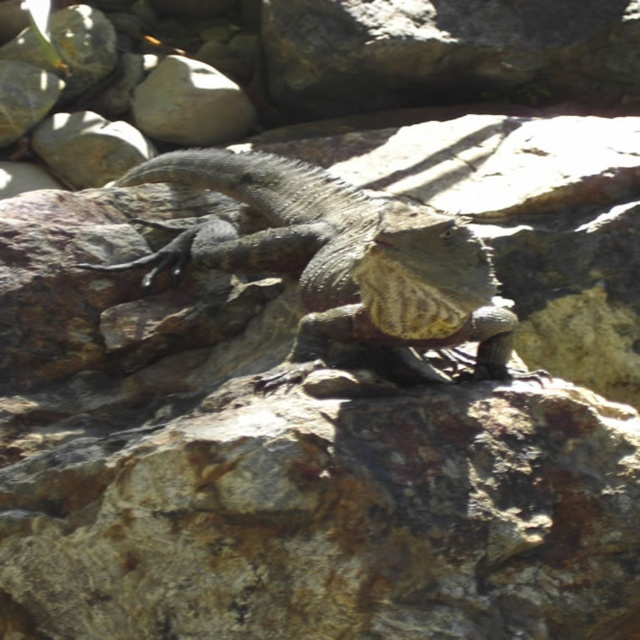Lizard: (106, 148, 511, 386)
